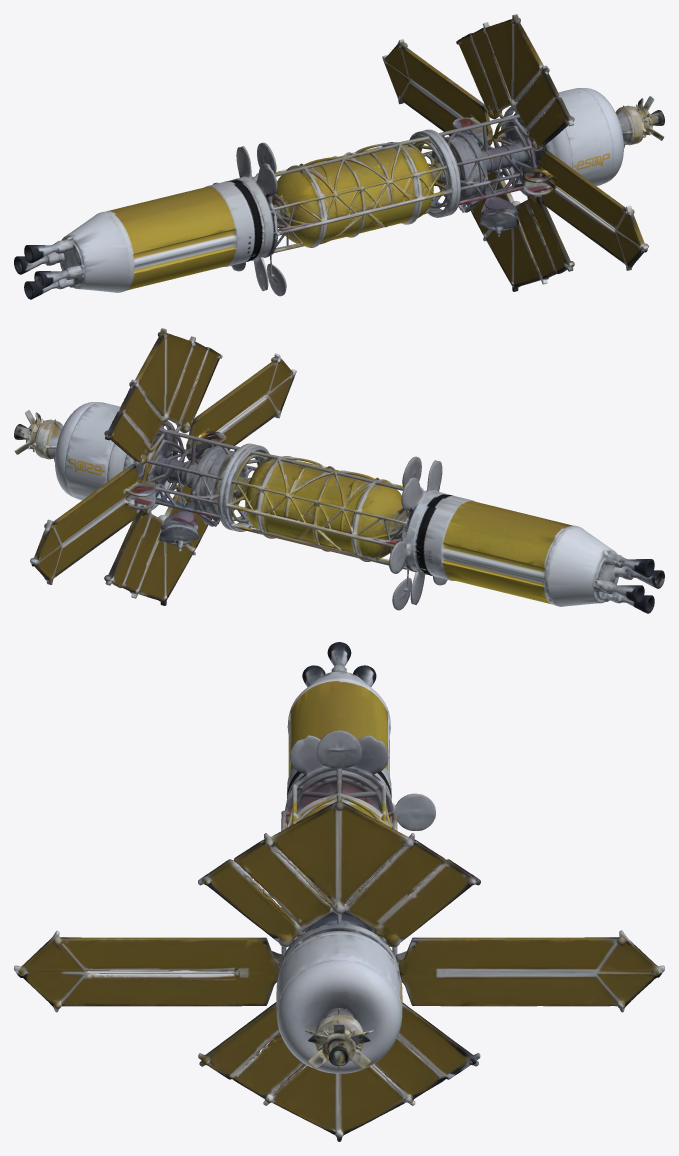
File: model-web-esapbranded.glb
3 views of the same model, one above another, from view 1: azimuth 30°, elevation 25°; view 2: azimuth 150°, elevation 25°; view 3: azimuth 270°, elevation 25° (orthographic). The views are drawn at different scales.
Parts seen in each view (by area): view 1: node_0; view 2: node_0; view 3: node_0.
Part boxes in pixels (left/top/right/bottom): node_0: left=14, top=14, right=664, bottom=299; node_0: left=14, top=328, right=664, bottom=613; node_0: left=14, top=642, right=664, bottom=1141.
Bounding box in the file's own units: 1.2 × 0.4997 × 0.8583.
Materials: 1 (1 with a texture image).
